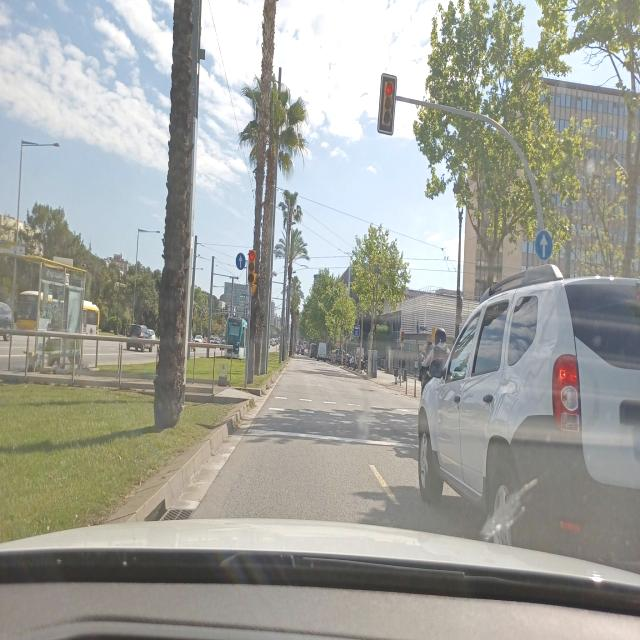car: (416, 264, 640, 568), (419, 344, 451, 383), (125, 324, 154, 353), (0, 300, 14, 340), (329, 349, 337, 364), (194, 333, 204, 344)
